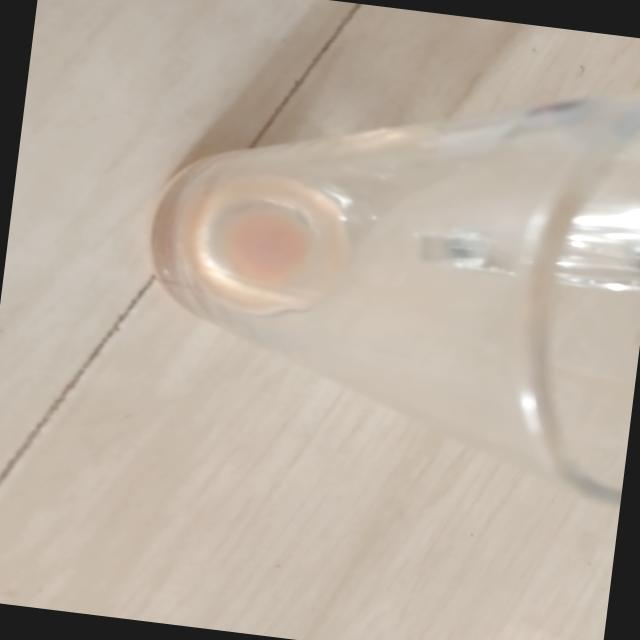glass-VX4N: (118, 29, 640, 508)
